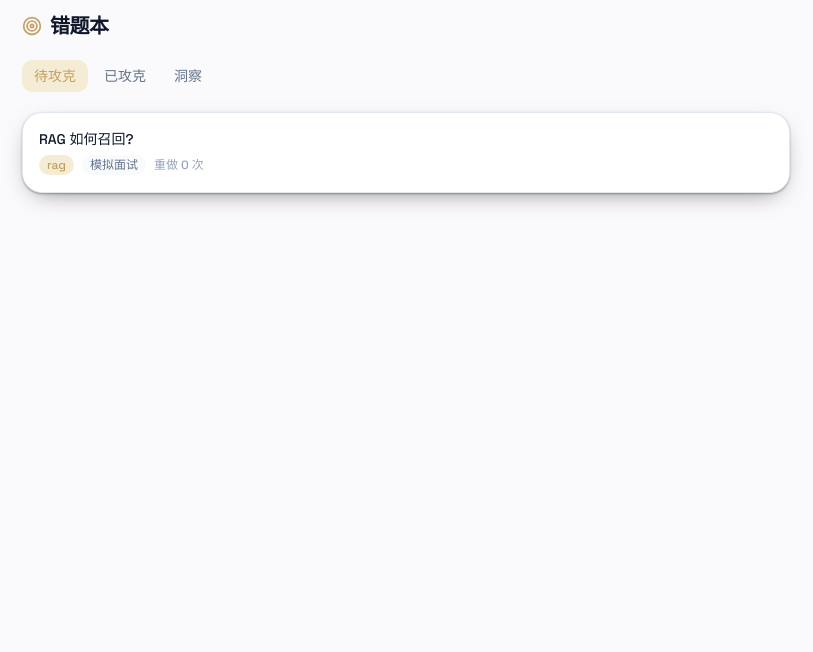
it: ErrorBook › shows redo history when attempts exist
Click the text "RAG 如何召回?": (86, 139) [39,130,134,148]
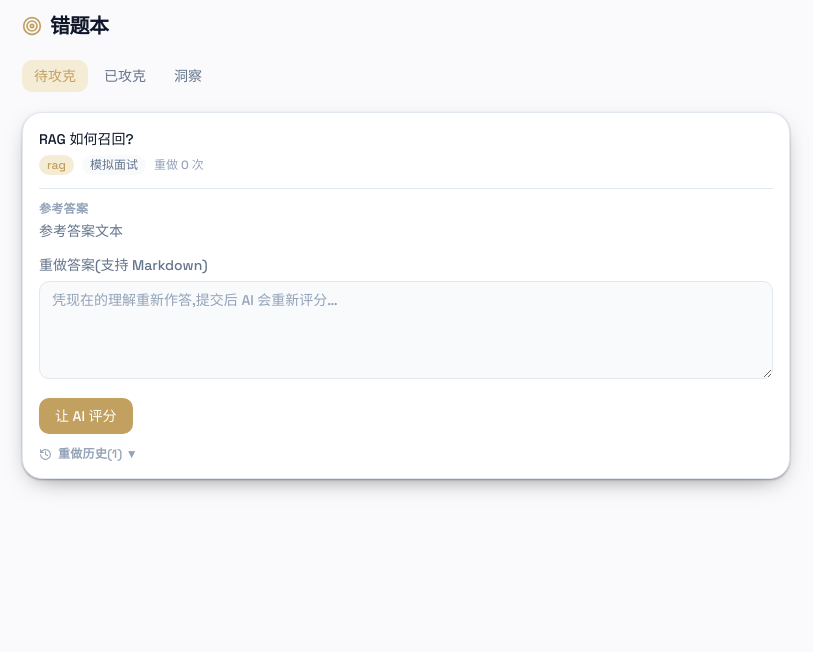
Click the button "重做历史(1) ▼": (88, 454) [39,446,138,462]
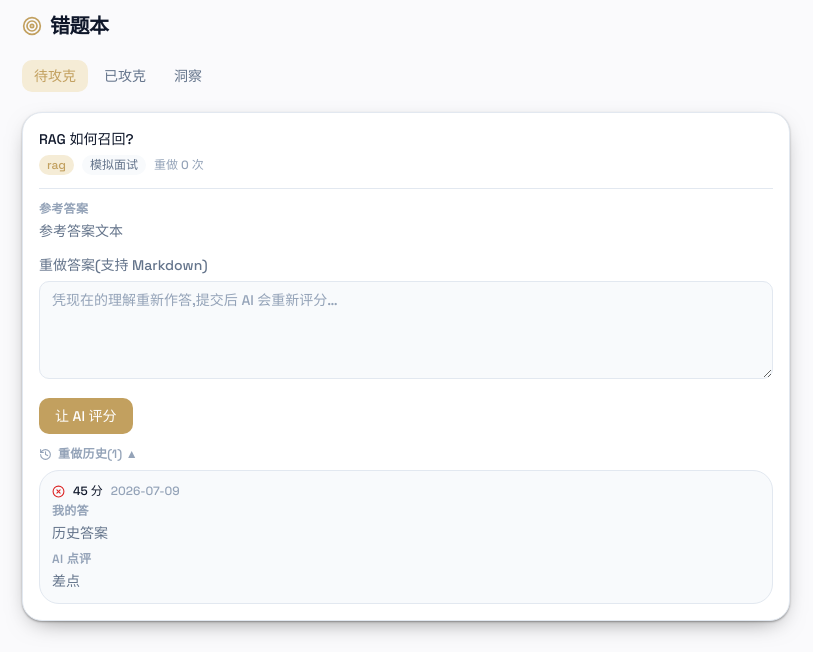
Expected: the text "历史答案" is shown, [52,524,108,542]
